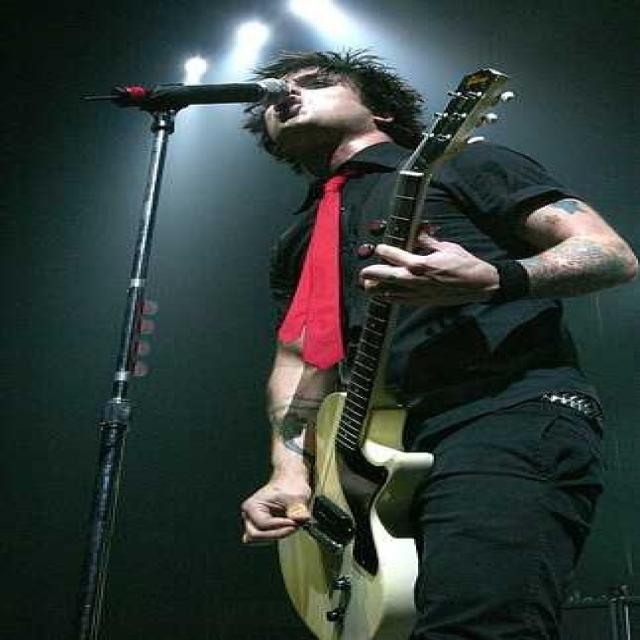microphone: (112, 78, 288, 110)
